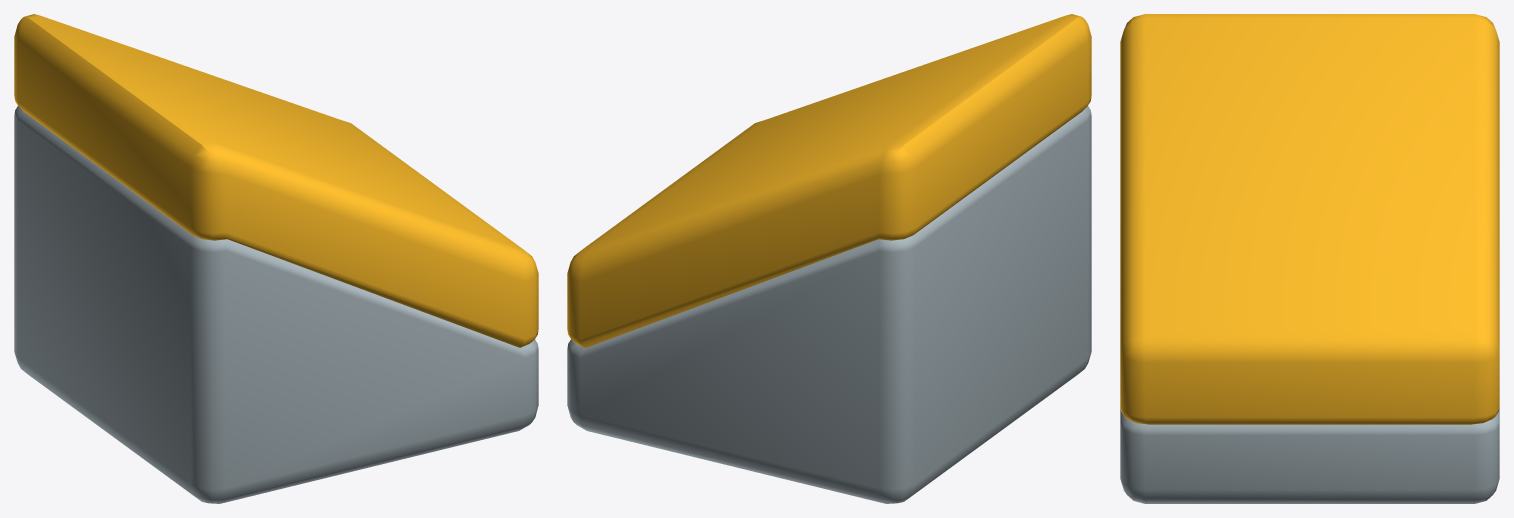
Rendered from tileSlopeLowHigh_teamYellow-col.glb.
3 views of the same model, side by side, from view 1: azimuth 30°, elevation 25°; view 2: azimuth 150°, elevation 25°; view 3: azimuth 270°, elevation 25° (orthographic). The views are drawn at different scales.
Visible parts, largest first — view 1: tileSlopeLowHigh_teamYellow-col; view 2: tileSlopeLowHigh_teamYellow-col; view 3: tileSlopeLowHigh_teamYellow-col.
Part boxes in pixels (<box>): tileSlopeLowHigh_teamYellow-col: <box>14,14,538,503</box>; tileSlopeLowHigh_teamYellow-col: <box>567,14,1091,503</box>; tileSlopeLowHigh_teamYellow-col: <box>1120,14,1499,503</box>.
Size of the model in its own units: 2 by 2 by 2.
